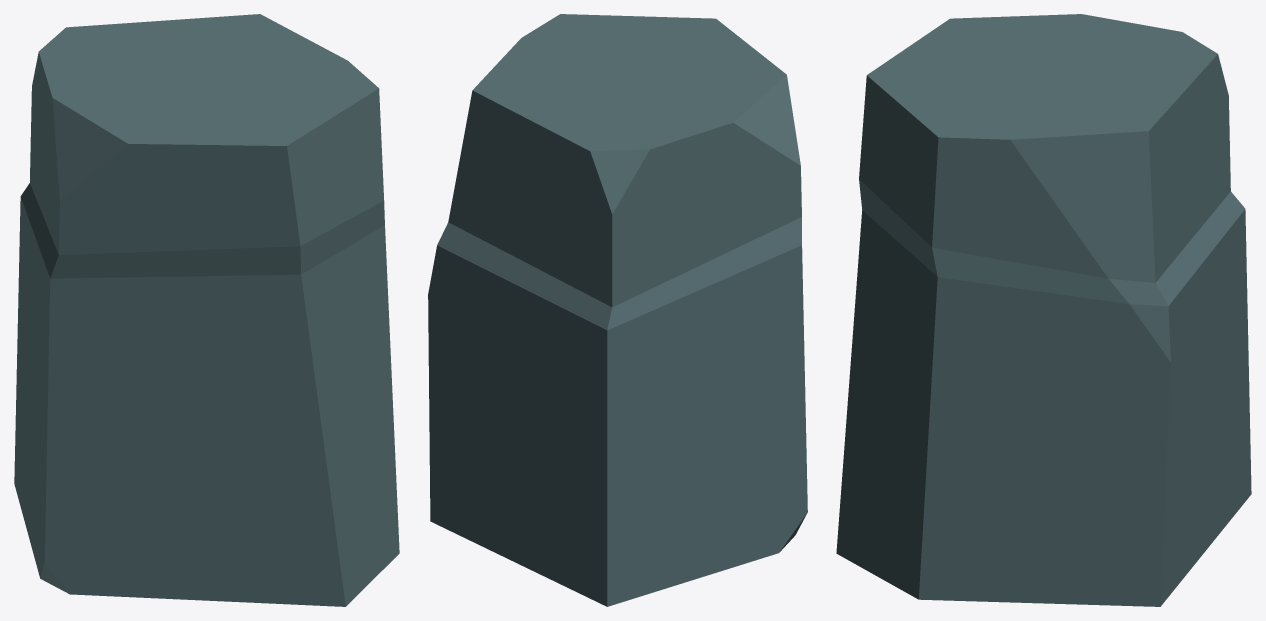
File: brigesCube_011.fbx
3 views of the same model, side by side, from view 1: azimuth 30°, elevation 25°; view 2: azimuth 150°, elevation 25°; view 3: azimuth 270°, elevation 25° (orthographic). The views are drawn at different scales.
Visible parts, largest first — view 1: Cube.011; view 2: Cube.011; view 3: Cube.011.
Boxes of the visible parts, x1,y1,x2,y2 form: Cube.011: (14,14,399,606); Cube.011: (428,14,807,606); Cube.011: (836,14,1251,606).
Size of the model in its own units: 107 by 145 by 120.
